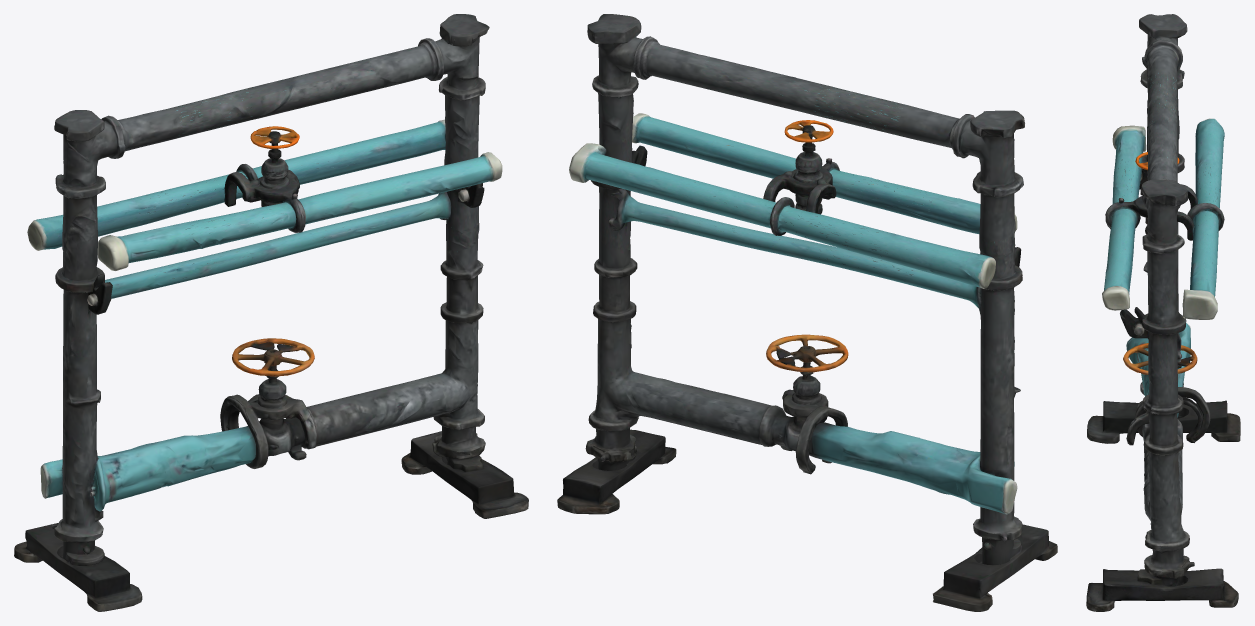
Rendered from pipe-rack.glb.
3 renders of one model, left to right at view 1: azimuth 30°, elevation 25°; view 2: azimuth 150°, elevation 25°; view 3: azimuth 270°, elevation 25°, orthographic. The views are drawn at different scales.
Bounding box in the file's own units: 0.9782 × 0.9795 × 0.332.
1 material, 1 textured.
